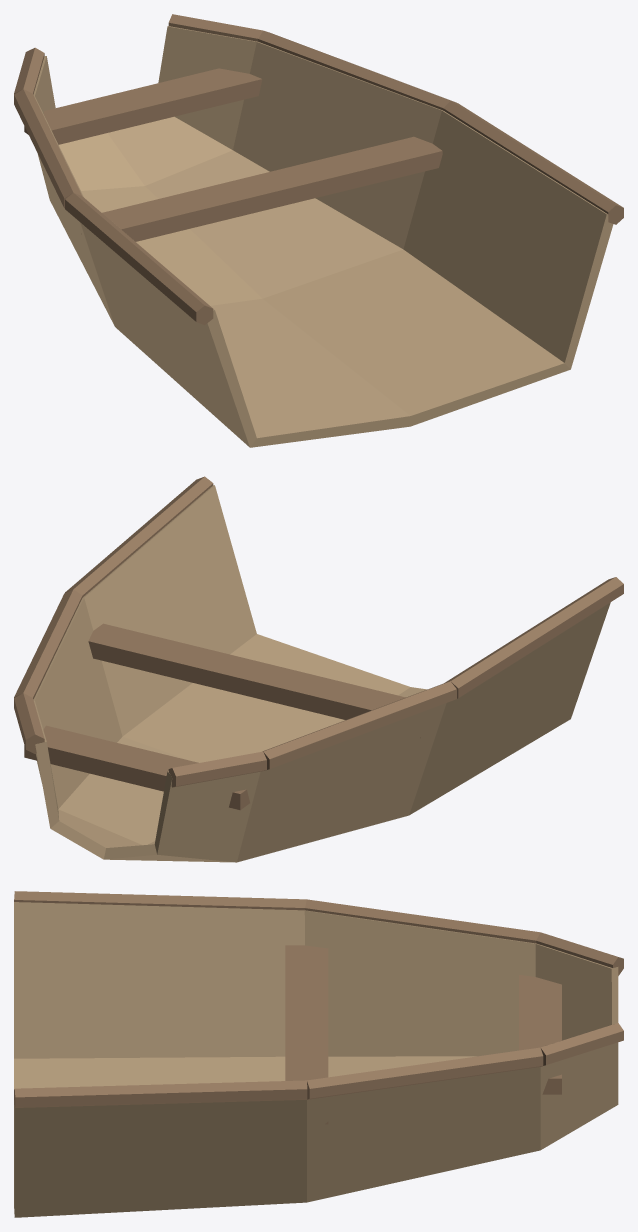
Rendered from wreck_stern.glb.
3 renders of one model, top to bottom at view 1: azimuth 30°, elevation 25°; view 2: azimuth 150°, elevation 25°; view 3: azimuth 270°, elevation 25°, orthographic.
Visible parts, largest first — view 1: Hull, Seat, Seat.001, Gunwale, Gunwale.001, Gunwale.003, Gunwale.002, Gunwale.005, Gunwale.004; view 2: Hull, Seat, Seat.001, Gunwale, Gunwale.002, Gunwale.001, Gunwale.003, Gunwale.004, Gunwale.005; view 3: Hull, Seat, Gunwale.001, Gunwale.003, Gunwale, Seat.001, Gunwale.002, Gunwale.005, Gunwale.004.
Boxes of the visible parts, x1=… form: Hull: x1=33, y1=26, x2=613, y2=447; Seat: x1=102, y1=136, x2=442, y2=241; Seat.001: x1=24, y1=68, x2=262, y2=144; Gunwale: x1=65, y1=193, x2=213, y2=325; Gunwale.001: x1=443, y1=101, x2=623, y2=224; Gunwale.003: x1=258, y1=30, x2=456, y2=110; Gunwale.002: x1=14, y1=89, x2=81, y2=208; Gunwale.005: x1=168, y1=14, x2=262, y2=41; Gunwale.004: x1=14, y1=47, x2=44, y2=94; Hull: x1=33, y1=485, x2=610, y2=862; Seat: x1=88, y1=623, x2=420, y2=737; Seat.001: x1=24, y1=725, x2=249, y2=810; Gunwale: x1=444, y1=577, x2=623, y2=698; Gunwale.002: x1=262, y1=681, x2=456, y2=769; Gunwale.001: x1=65, y1=476, x2=213, y2=597; Gunwale.003: x1=14, y1=589, x2=82, y2=699; Gunwale.004: x1=168, y1=751, x2=266, y2=787; Gunwale.005: x1=14, y1=693, x2=44, y2=753; Hull: x1=14, y1=902, x2=618, y2=1217; Seat: x1=285, y1=945, x2=328, y2=1124; Gunwale.001: x1=14, y1=1080, x2=307, y2=1107; Gunwale.003: x1=307, y1=1047, x2=543, y2=1099; Gunwale: x1=14, y1=891, x2=306, y2=910; Seat.001: x1=519, y1=975, x2=561, y2=1094; Gunwale.002: x1=305, y1=899, x2=540, y2=943; Gunwale.005: x1=540, y1=1023, x2=623, y2=1065; Gunwale.004: x1=536, y1=932, x2=623, y2=975.
Size of the model in its own units: 2.5 by 0.955 by 3.13.
